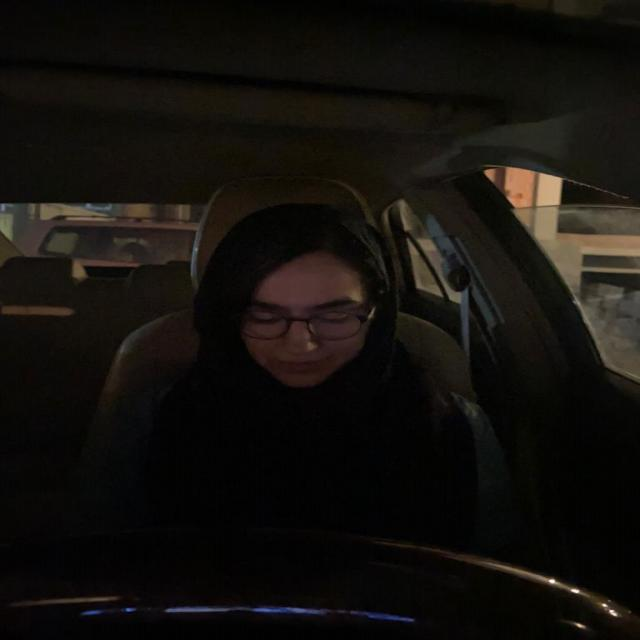drowsy: (208, 219, 400, 394)
